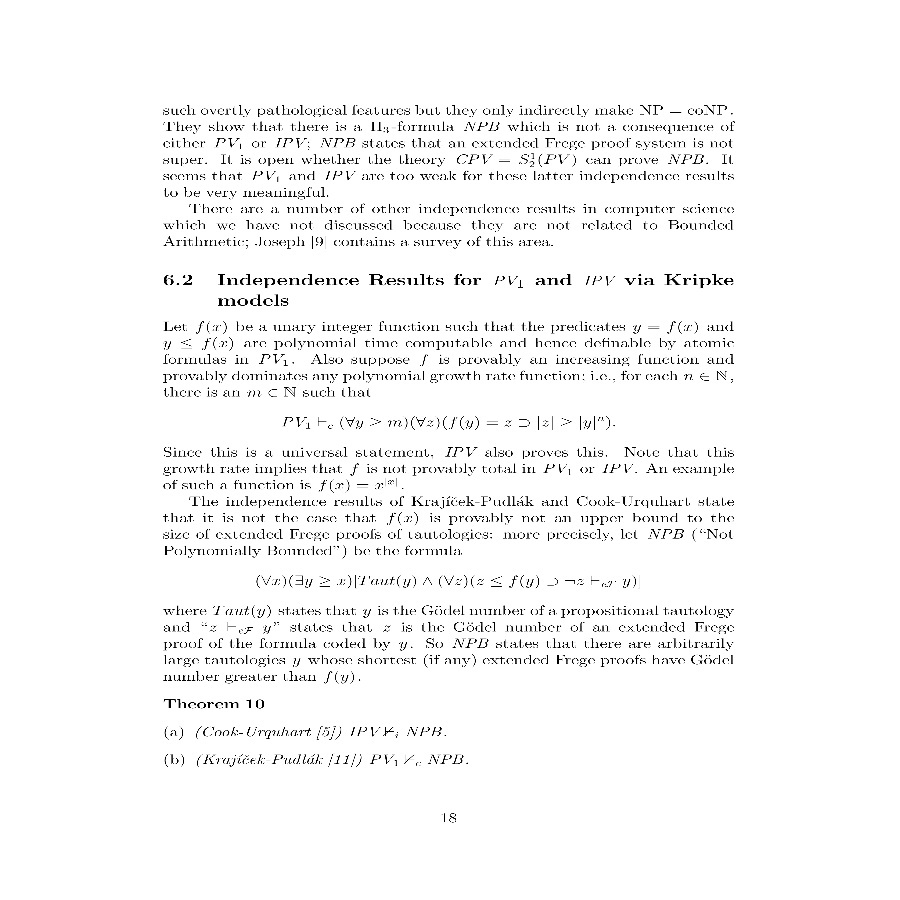eq: (250, 571, 642, 597), (281, 414, 612, 435), (368, 748, 472, 771), (348, 723, 447, 741)
